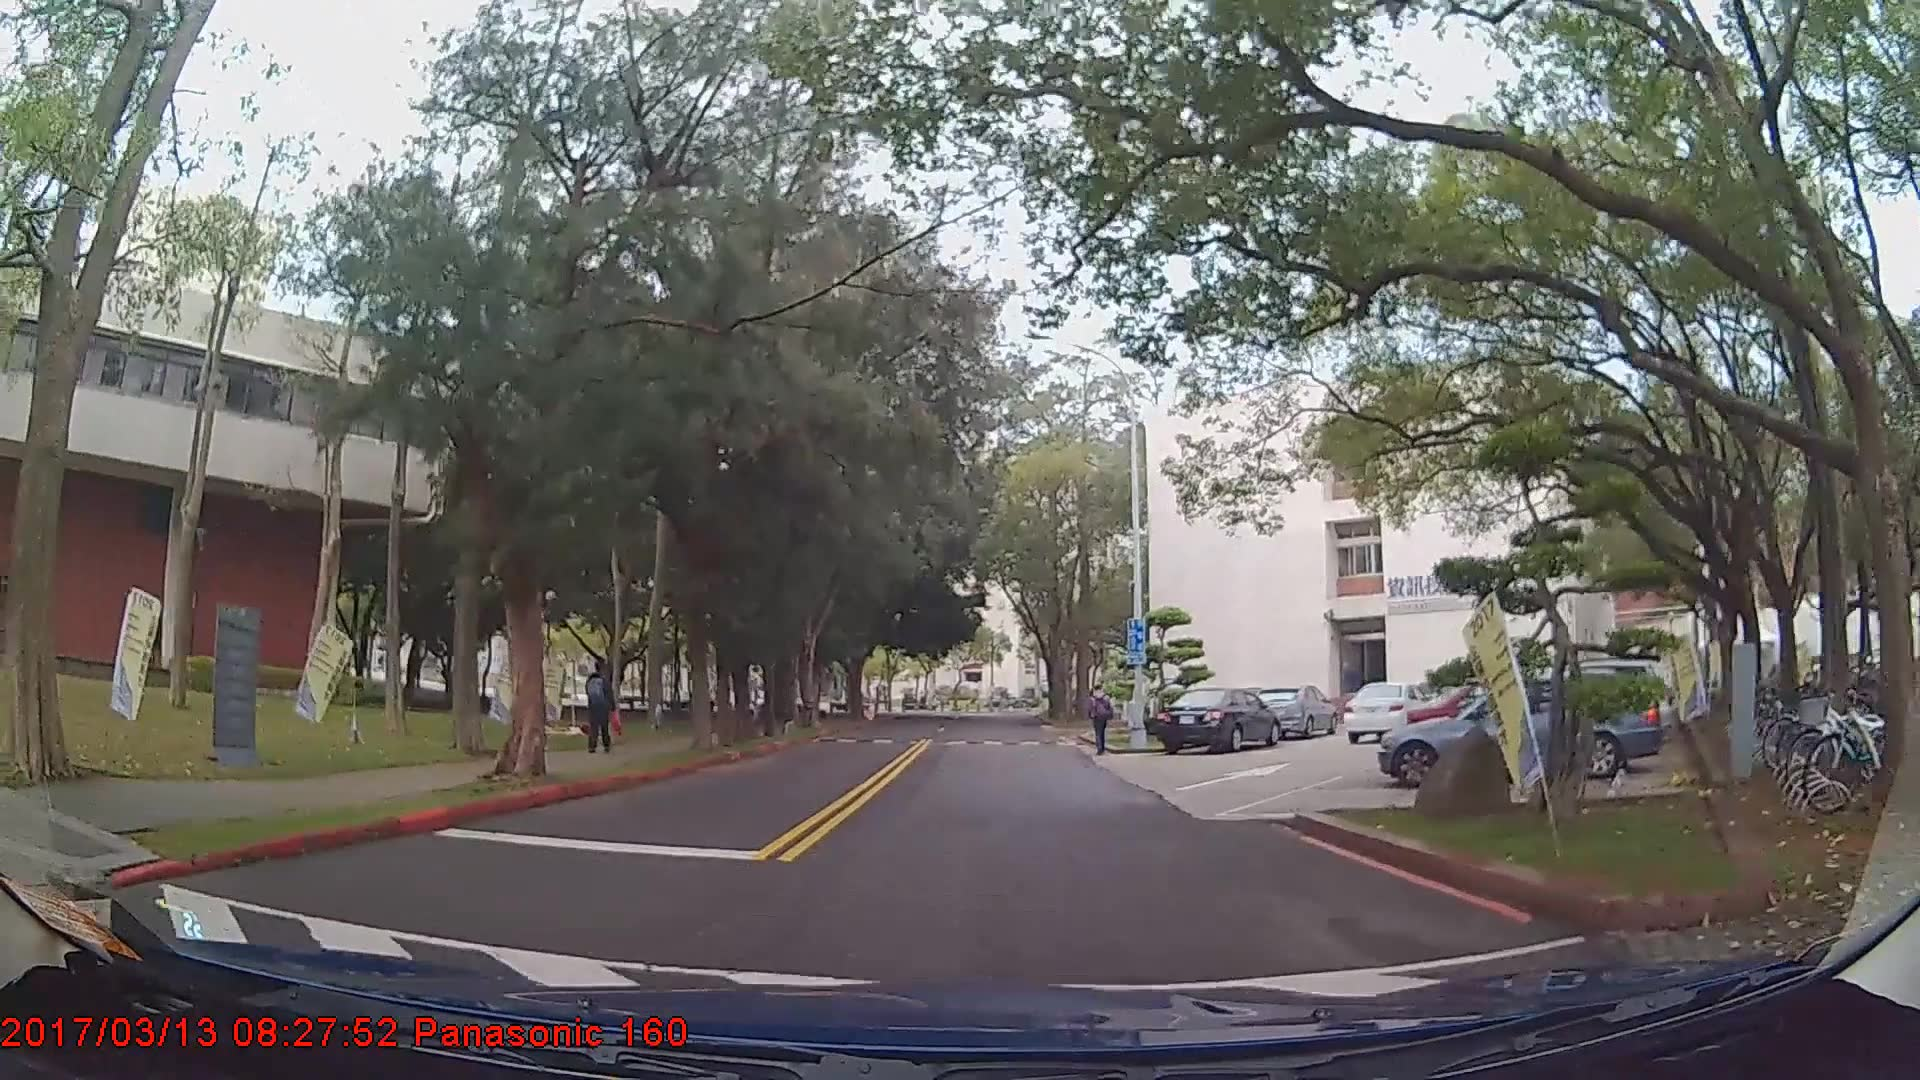pedestrian: (587, 661, 617, 754), (1088, 687, 1116, 760)
vehicle: (1375, 669, 1658, 792), (1152, 688, 1282, 757), (1341, 681, 1430, 745), (1256, 682, 1338, 738)
